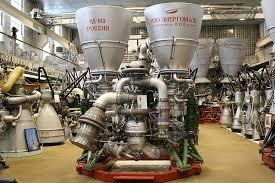thruster: (143, 2, 205, 71), (74, 4, 133, 71), (0, 106, 44, 154), (33, 102, 67, 144), (215, 37, 251, 76), (187, 35, 216, 77), (259, 0, 275, 53), (228, 106, 244, 132), (217, 107, 235, 125)
